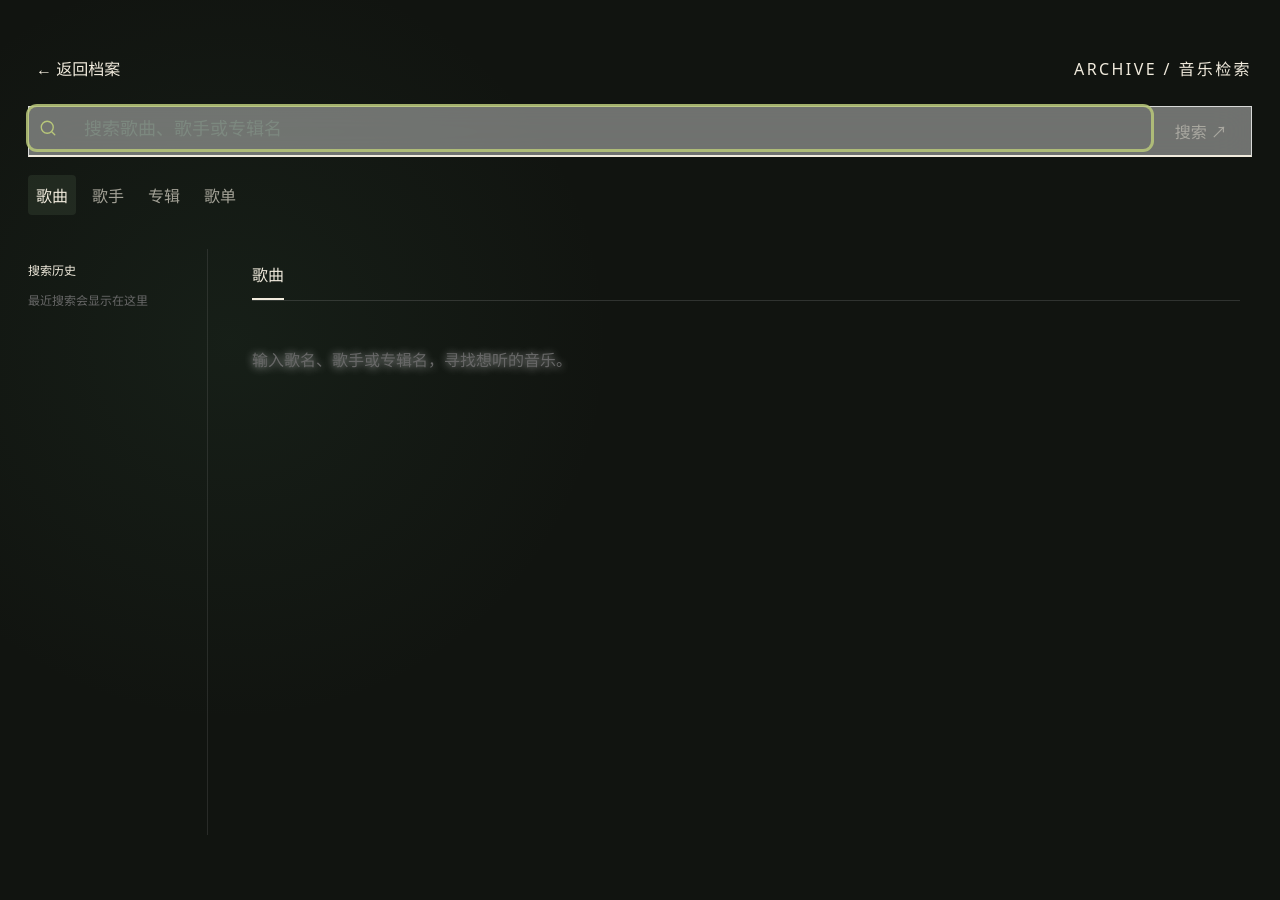
it: 新搜索不会被旧搜索的迟到结果覆盖
Type "旧词" into the dropdown labelled "搜索歌曲" at (599, 128), box [66,108,1132,148]
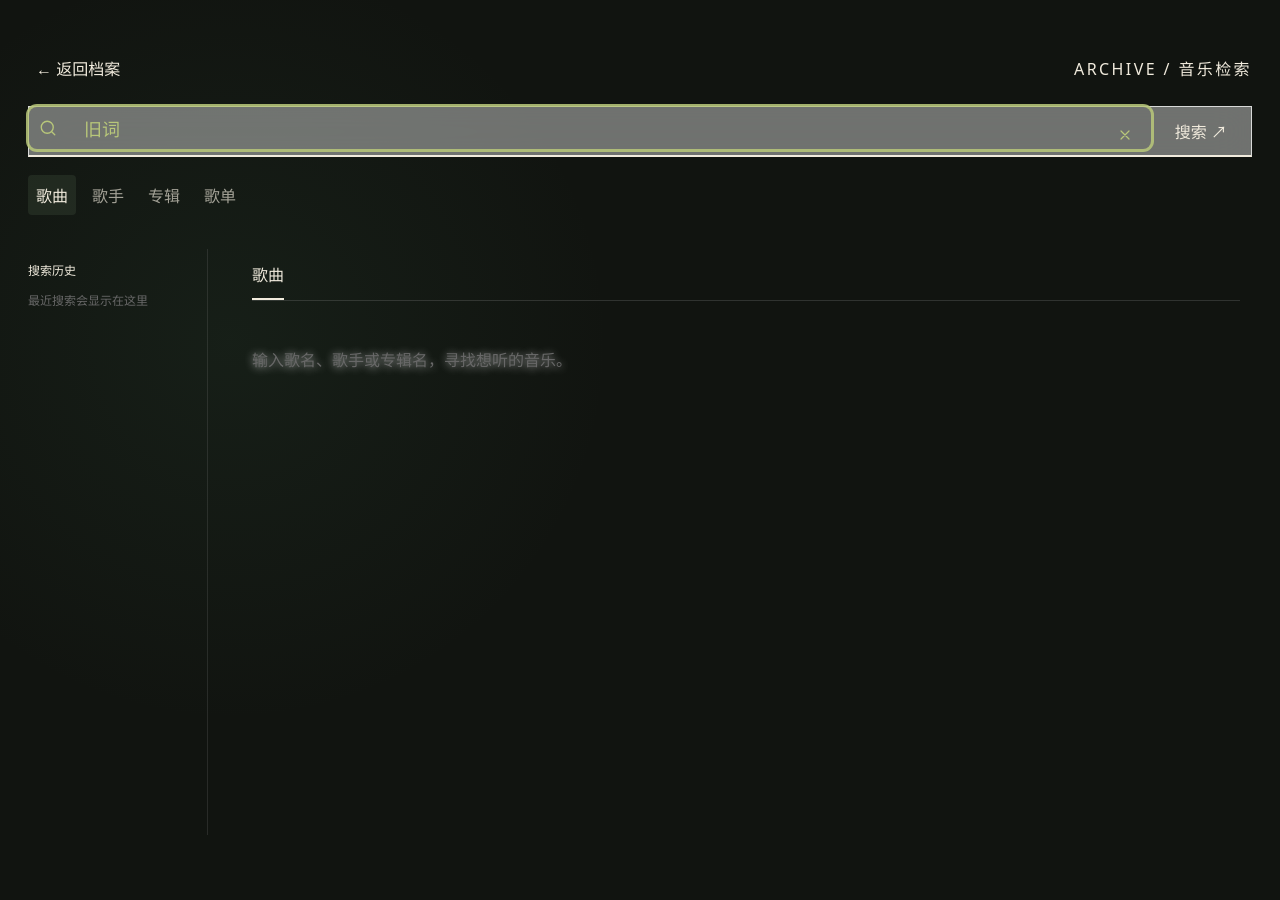
Click the button "搜索 ↗" at (1201, 131), box [1151,107,1251,155]
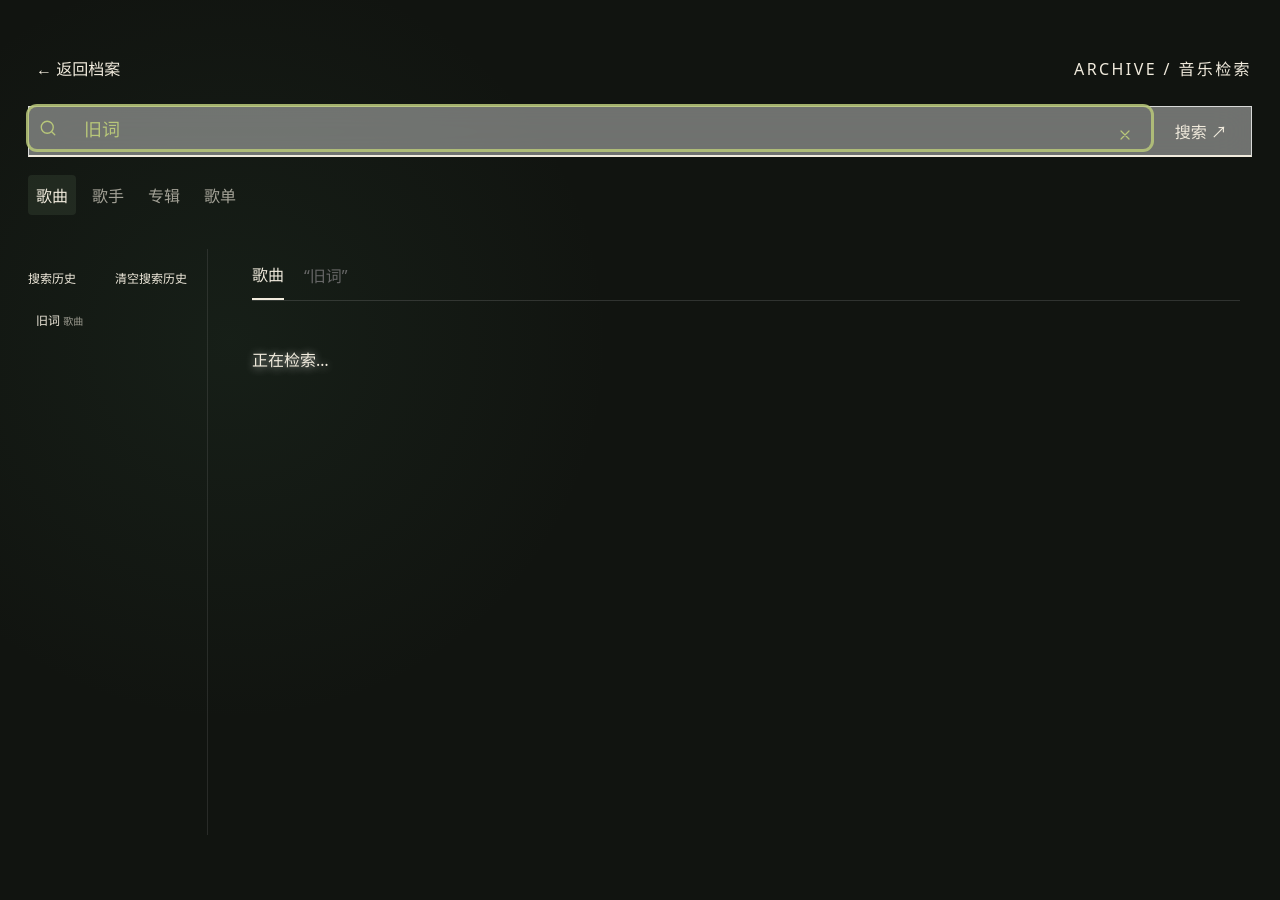
Replace the text in the dropdown named "搜索歌曲" with "夜航" at (575, 128), box [66,108,1084,148]
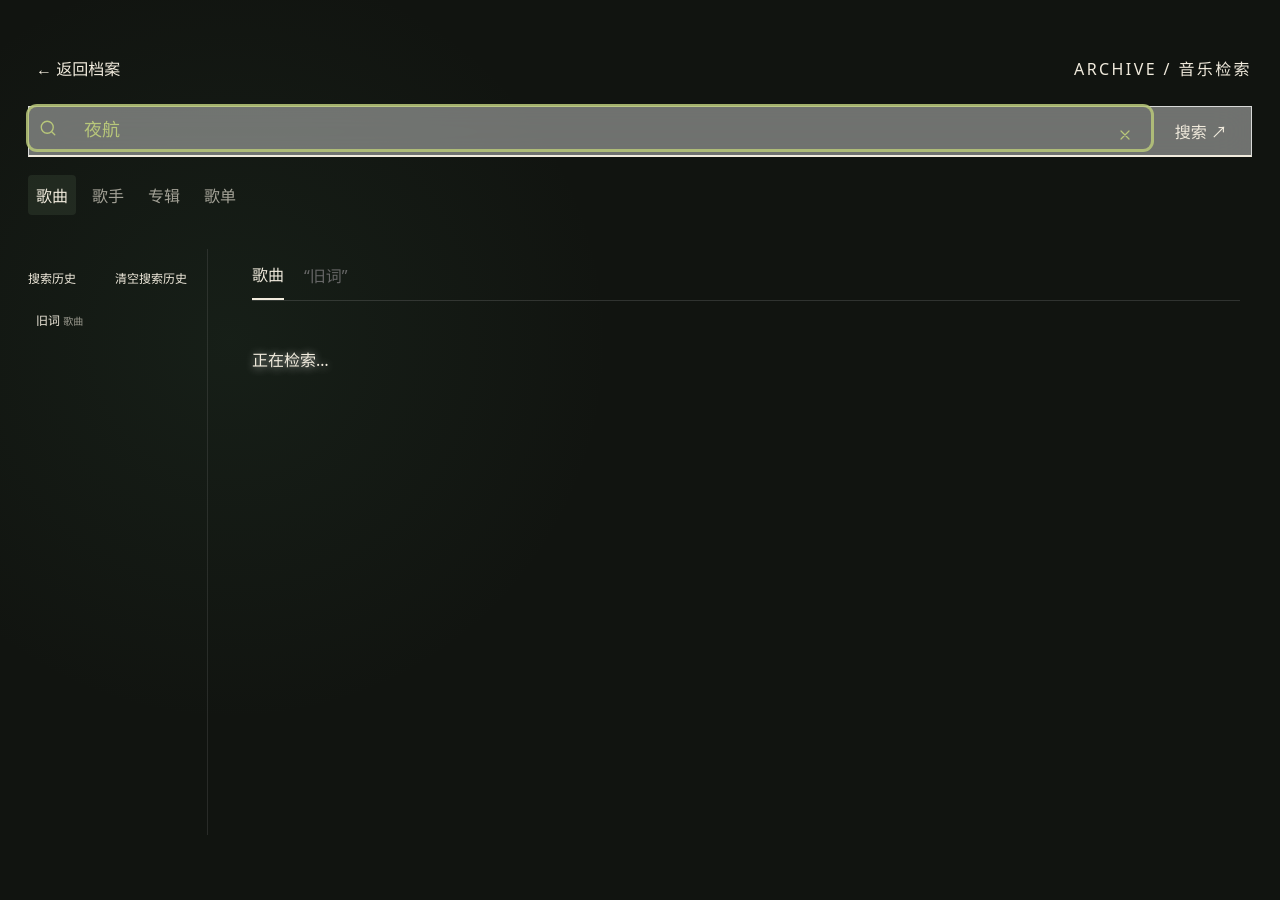
Click the button "搜索 ↗" at (1201, 131), box [1151,107,1251,155]
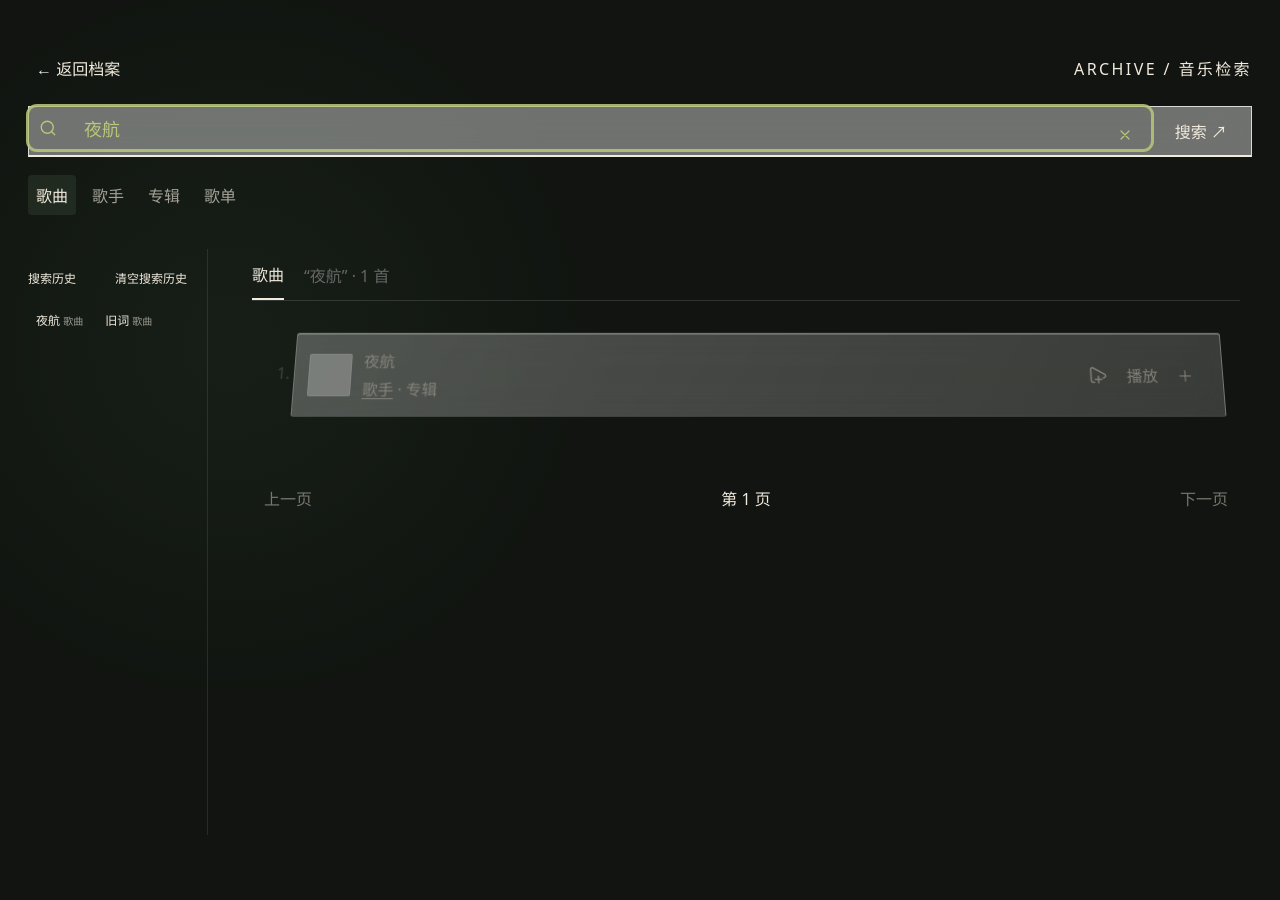
Expected: the button with aria-label "播放 夜航" is shown, [1118,356,1167,394]
